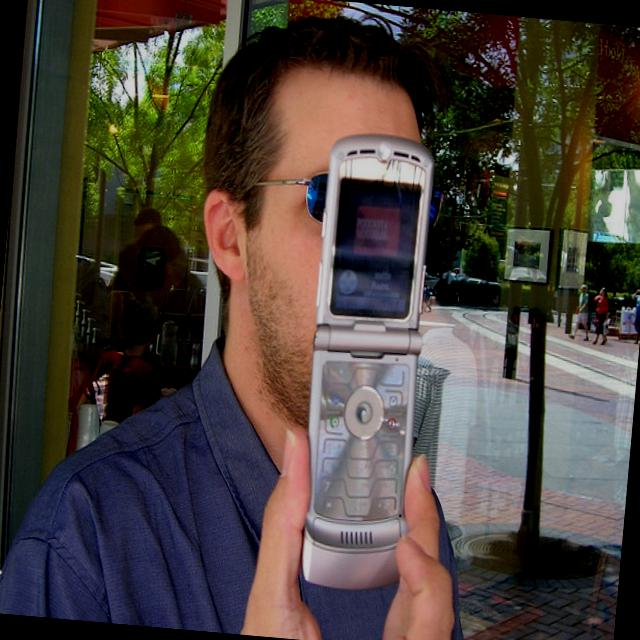Vehicle: (464, 275, 490, 284)
